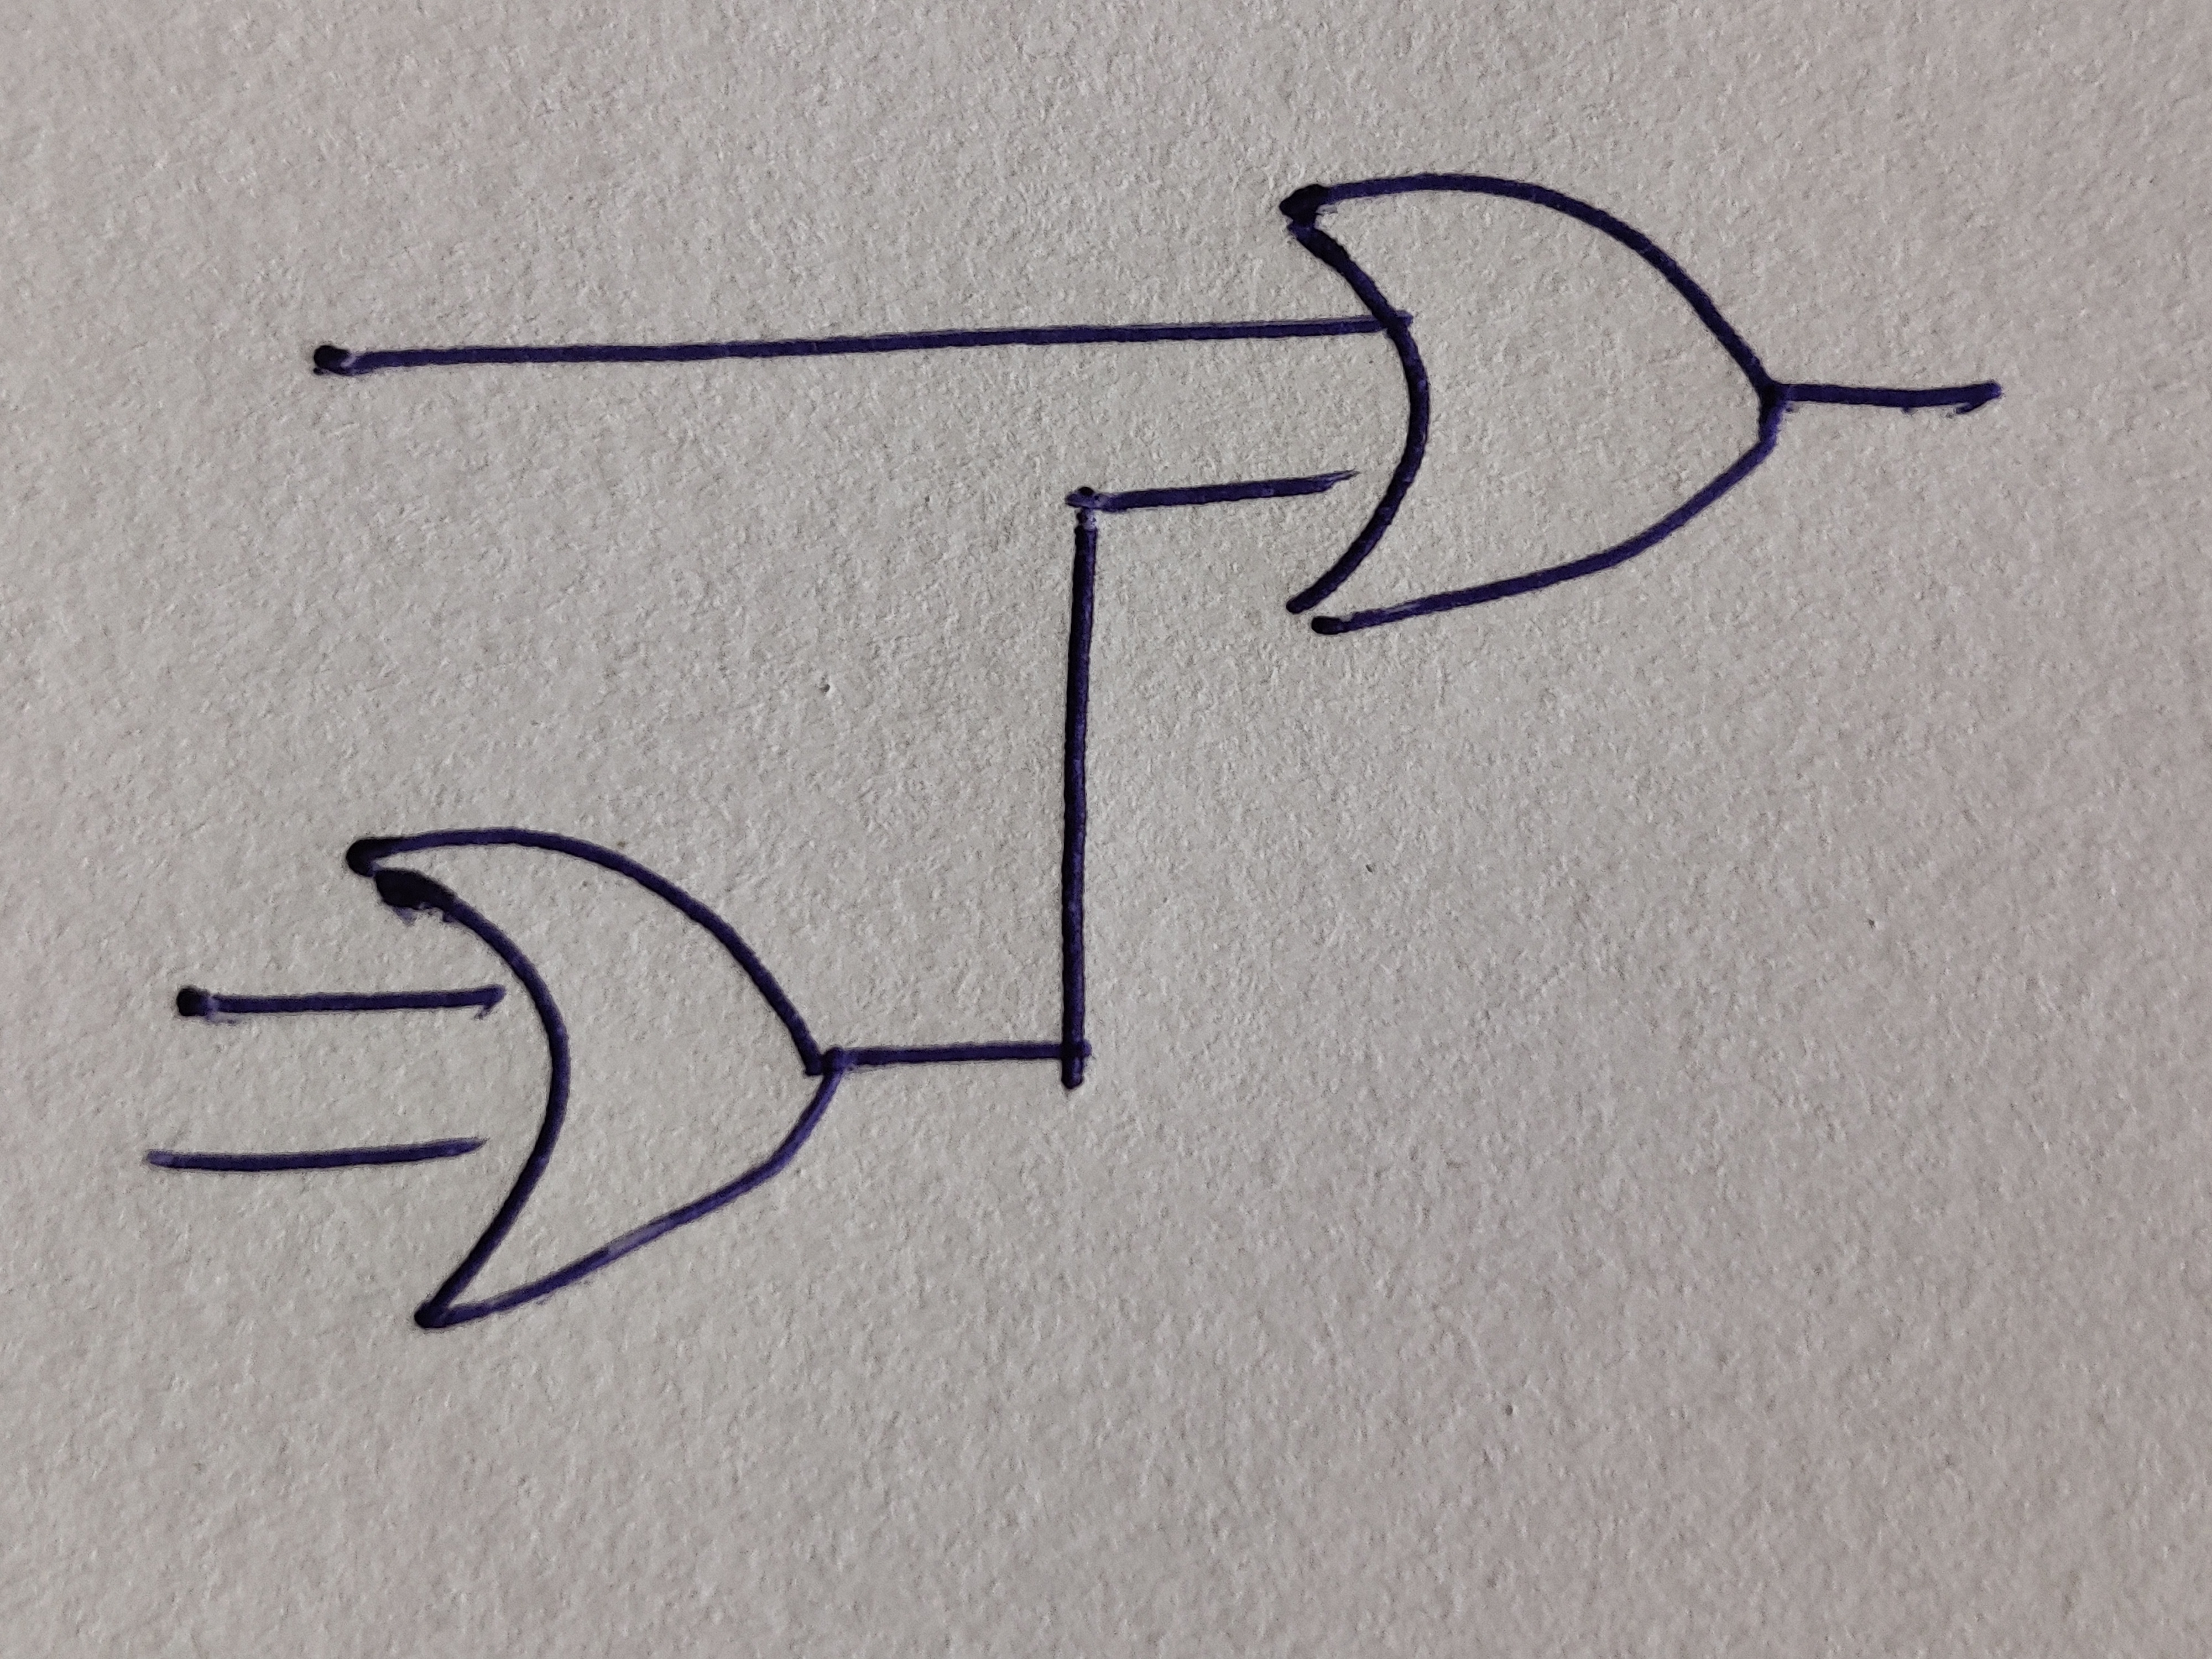or: (345, 826, 846, 1331), (1280, 174, 1785, 638)
